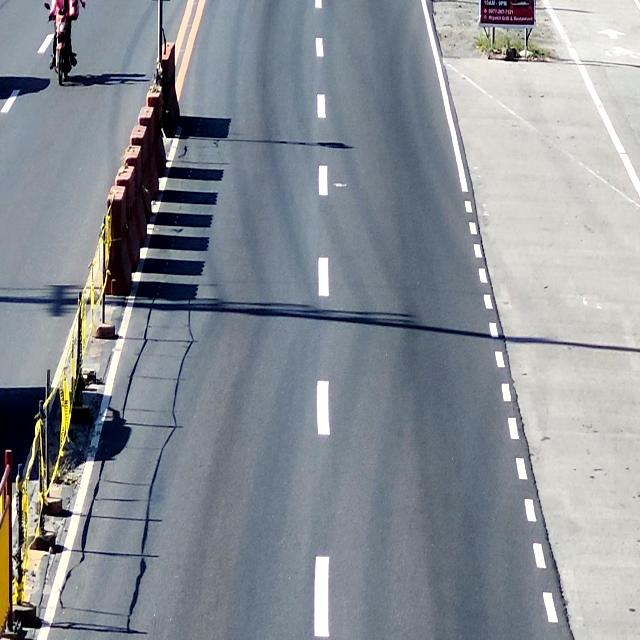Motorcycle: (42, 4, 81, 85)
